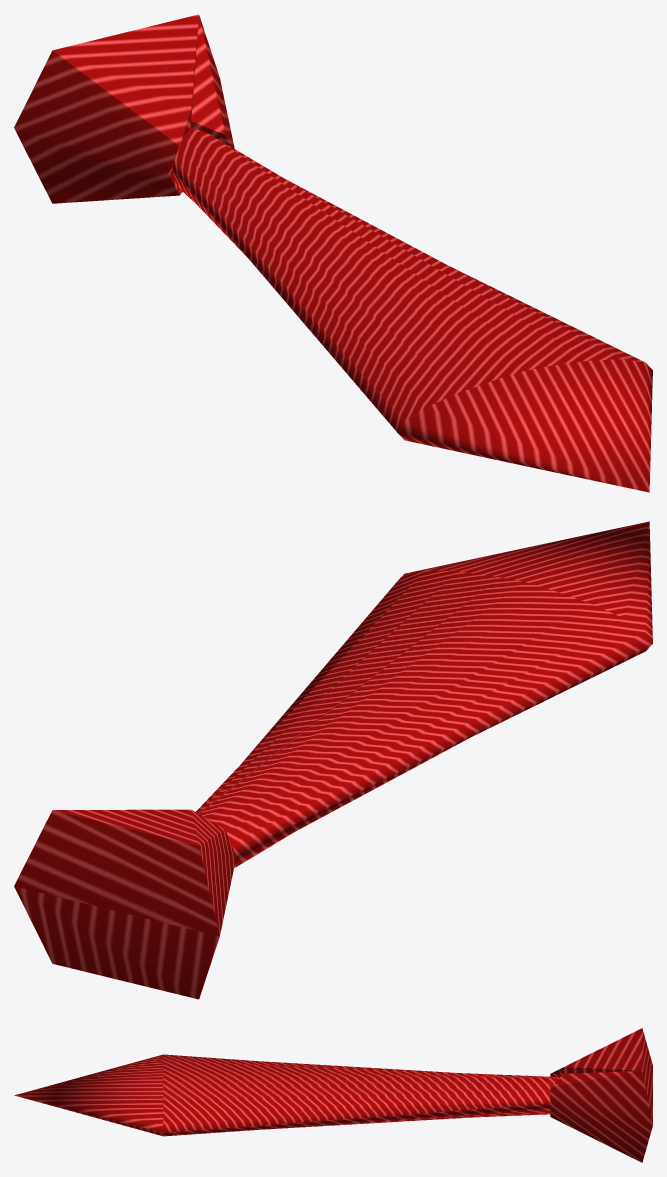
Rendered from necktie.fbx.
3 views of the same model, one above another, from view 1: azimuth 30°, elevation 25°; view 2: azimuth 150°, elevation 25°; view 3: azimuth 270°, elevation 25° (orthographic). The views are drawn at different scales.
Parts seen in each view (by area): view 1: pCone2; view 2: pCone2; view 3: pCone2.
Boxes of the visible parts, bbox=[...] form: pCone2: bbox=[14, 14, 652, 492]; pCone2: bbox=[14, 521, 652, 999]; pCone2: bbox=[14, 1028, 652, 1162].
Bounding box in the file's own units: 0.32 × 0.1838 × 1.15.
Materials: 1 (1 with a texture image).
